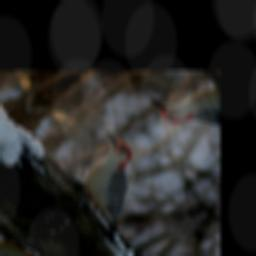Woodpecker: (44, 127, 178, 240)
